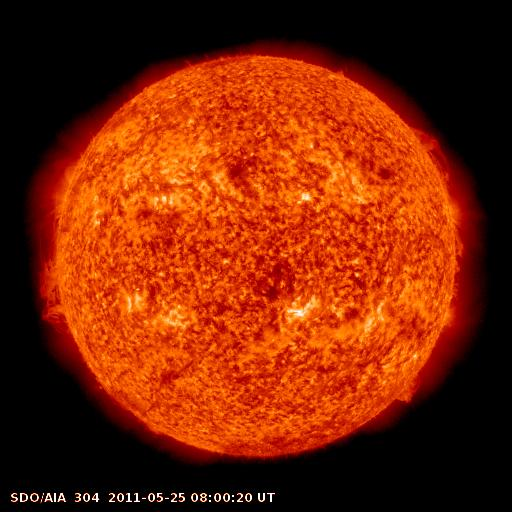prominence: (25, 253, 83, 336), (402, 117, 458, 186), (443, 224, 480, 303), (387, 366, 434, 413)
